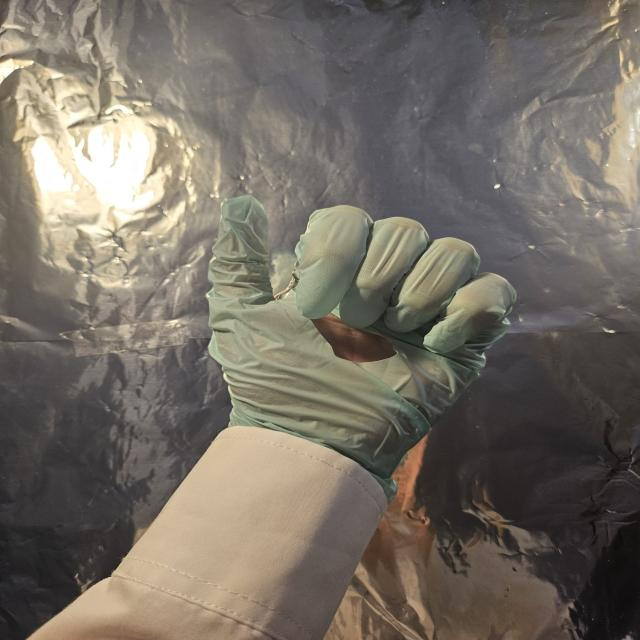gloves_damaged: (200, 190, 520, 486)
